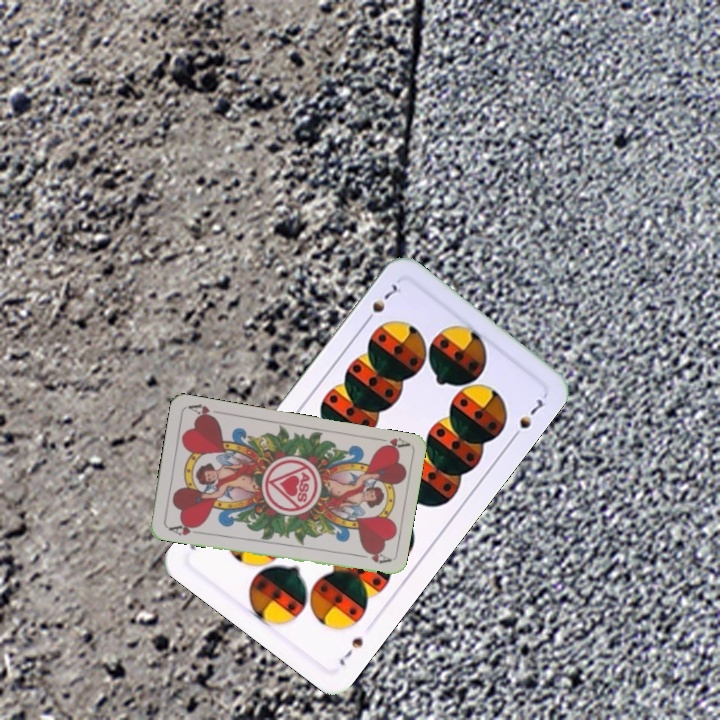HA: (370, 433, 411, 454), (165, 519, 204, 538)
S7: (360, 280, 400, 327), (335, 633, 366, 669)
